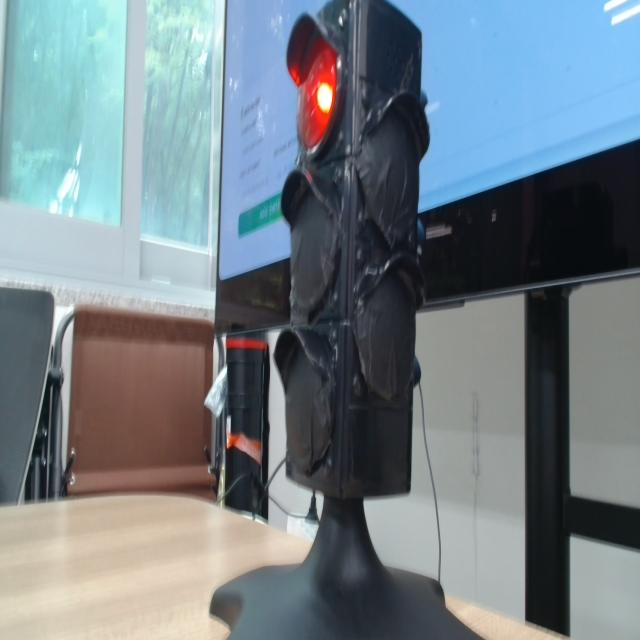red_light: (298, 38, 337, 149), (317, 83, 333, 113)
